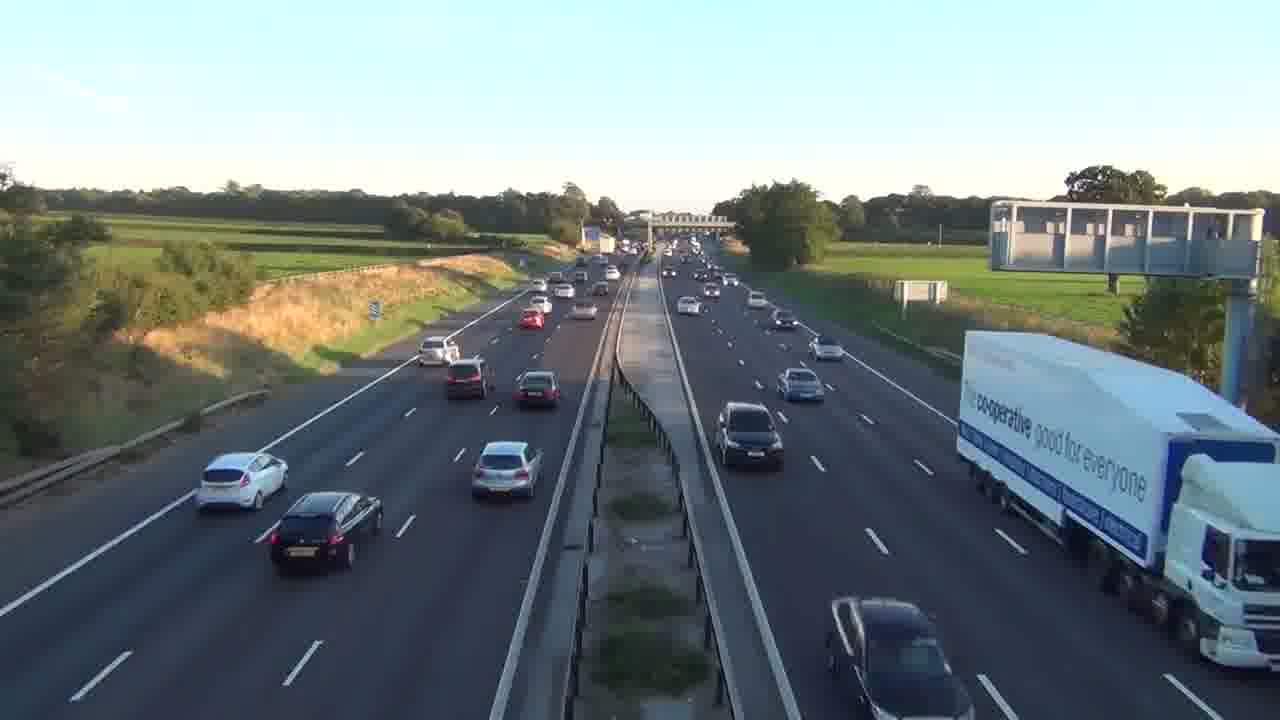car: (824, 594, 974, 718), (196, 451, 289, 512), (714, 400, 786, 471), (471, 440, 544, 501), (512, 369, 561, 409), (776, 366, 827, 403)
truck: (957, 328, 1279, 674)
